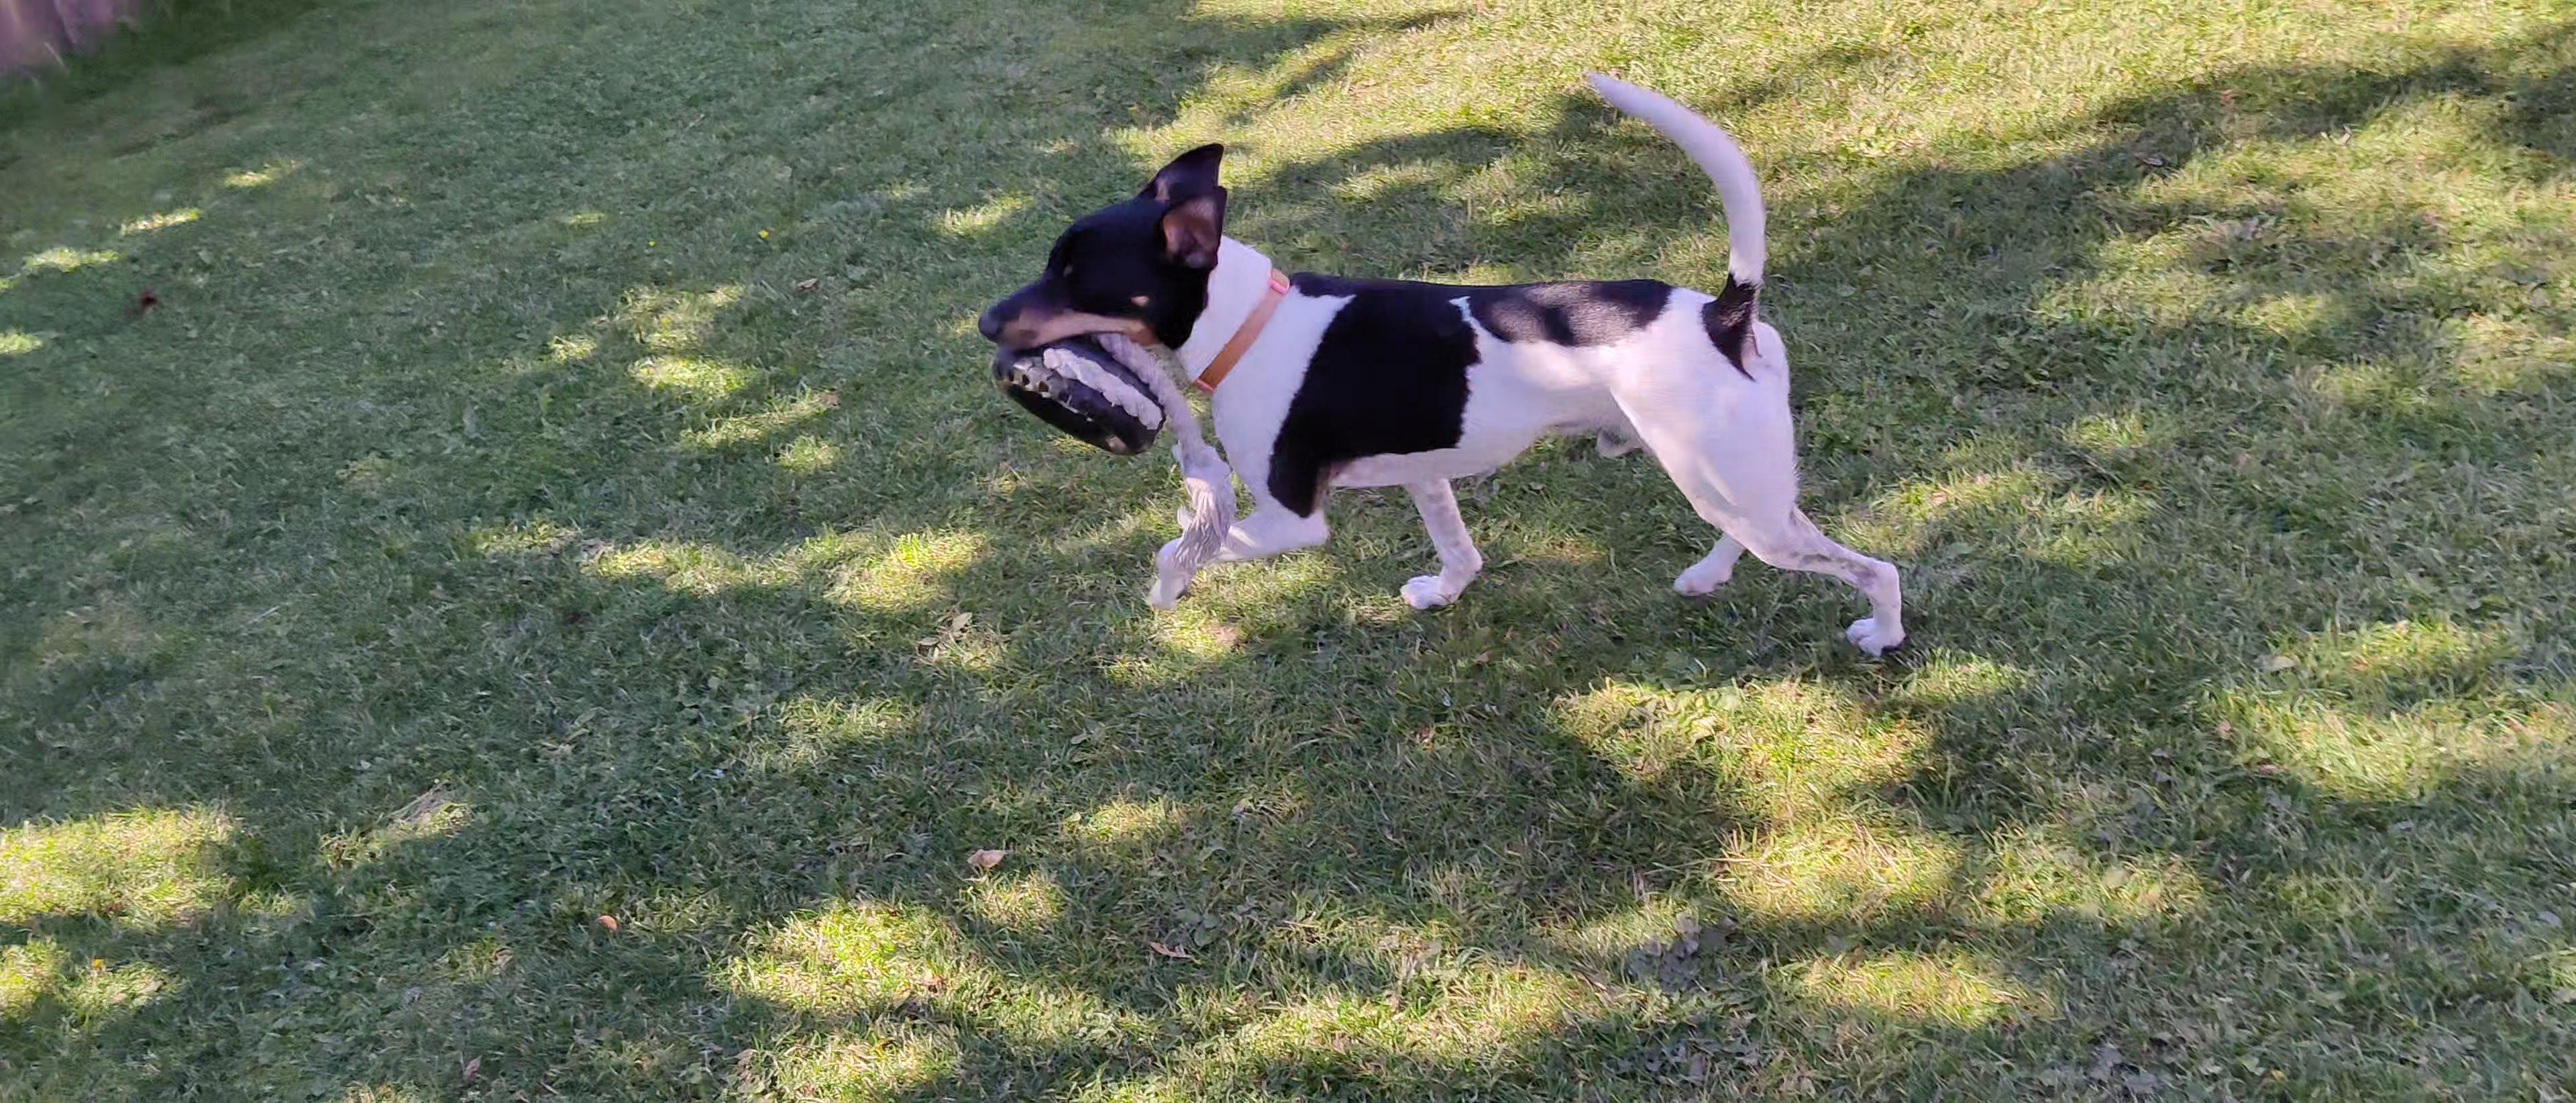Dog: (954, 41, 1924, 672)
